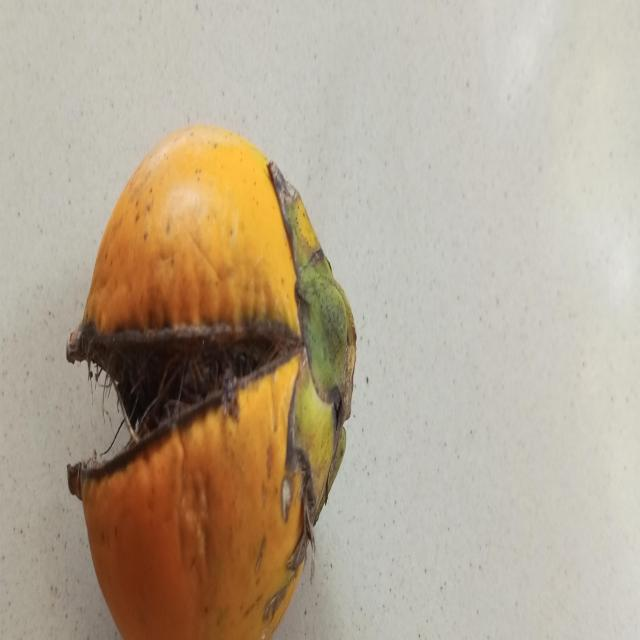damaged: (66, 126, 356, 640)
